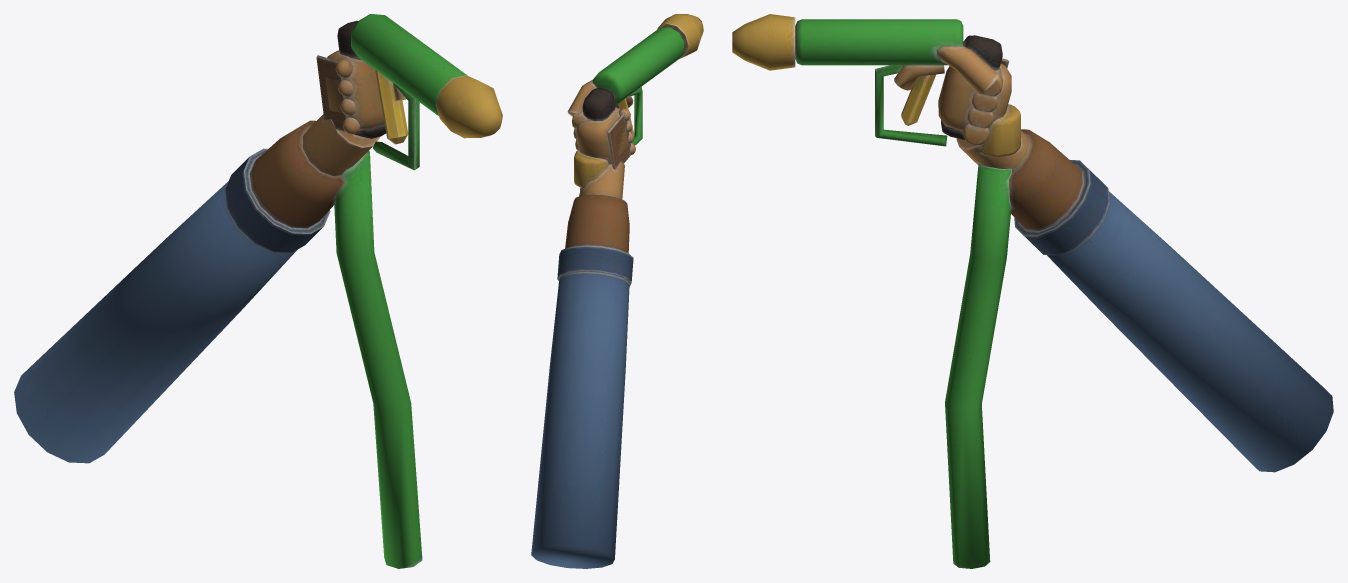
The model's file is hose_nozzle_hand.glb.
The picture shows the model from 3 angles, left to right: view 1: azimuth 30°, elevation 25°; view 2: azimuth 150°, elevation 25°; view 3: azimuth 270°, elevation 25°; orthographic projection. The views are drawn at different scales.
Parts seen in each view (by area): view 1: hose_nozzle_hand; view 2: hose_nozzle_hand; view 3: hose_nozzle_hand.
Boxes of the visible parts, box(x1,y1,x2,y2) form: hose_nozzle_hand: box(14, 14, 502, 568); hose_nozzle_hand: box(531, 14, 703, 568); hose_nozzle_hand: box(732, 14, 1333, 568).
Size of the model in its own units: 0.3012 by 0.6946 by 0.7157.
1 material, 1 textured.
